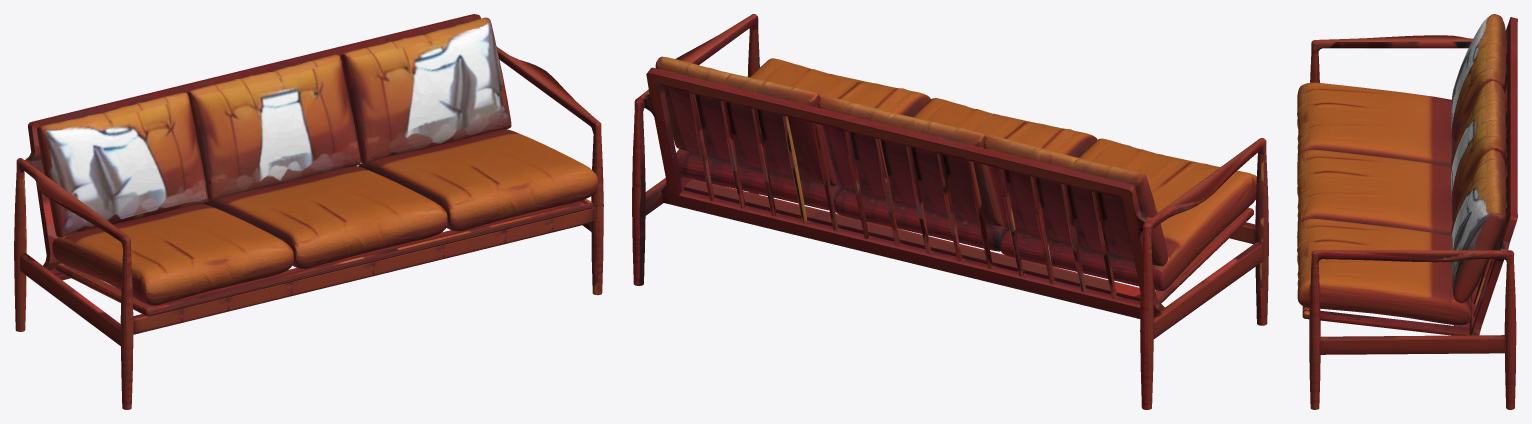
The model's file is edited_mesh.glb.
The picture shows the model from 3 angles, left to right: view 1: azimuth 30°, elevation 25°; view 2: azimuth 150°, elevation 25°; view 3: azimuth 270°, elevation 25°; orthographic projection. The views are drawn at different scales.
Visible parts, largest first — view 1: solid_001_wire; view 2: solid_001_wire; view 3: solid_001_wire.
Part boxes in pixels (x1=…): solid_001_wire: x1=14, y1=14, x2=603, y2=409; solid_001_wire: x1=632, y1=14, x2=1268, y2=409; solid_001_wire: x1=1297, y1=14, x2=1517, y2=409.
Bounding box in the file's own units: 2 × 0.7861 × 0.8303.
1 material, 1 textured.
